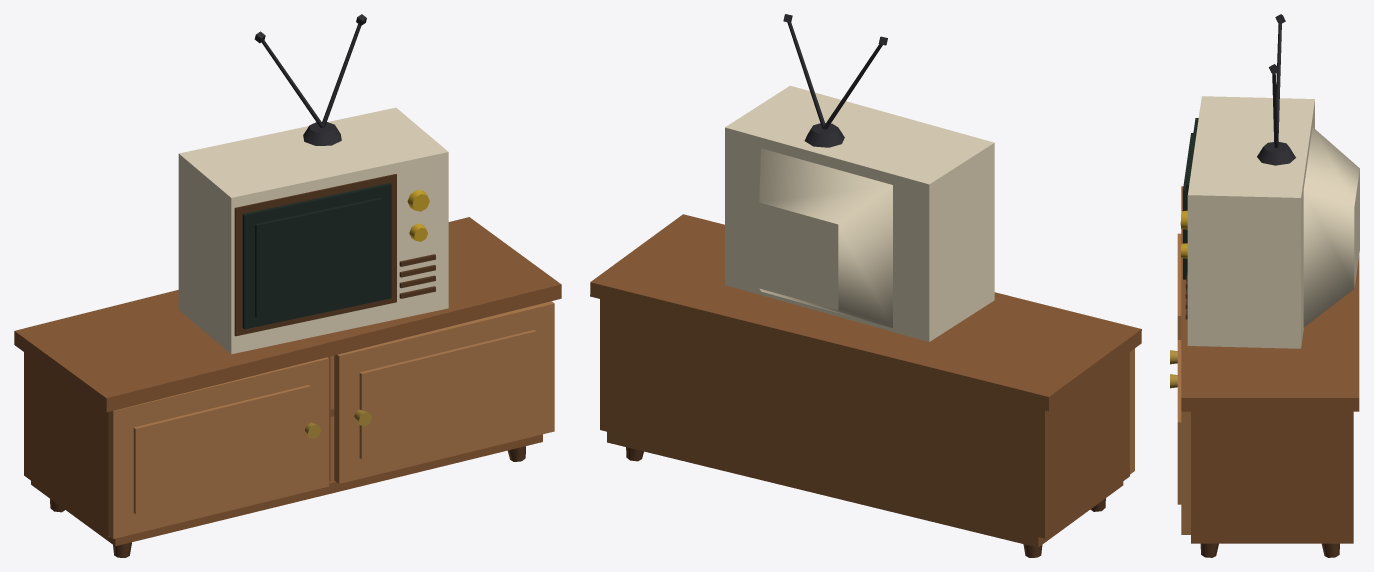
Rendered from TvKast.glb.
The picture shows the model from 3 angles, left to right: view 1: azimuth 30°, elevation 25°; view 2: azimuth 150°, elevation 25°; view 3: azimuth 270°, elevation 25°; orthographic projection. The views are drawn at different scales.
Visible parts, largest first — view 1: Carcass, TVBody, DoorR, DoorL, TVScreen, TVTrim, TVAntenna; view 2: Carcass, TVBody, TVAntenna; view 3: TVBody, Carcass, DoorR, TVAntenna, TVScreen, DoorL, LegsMerged.
Boxes of the visible parts, x1,y1,x2,y2 form: Carcass: (14, 217, 561, 546); TVBody: (178, 107, 448, 354); DoorR: (334, 301, 554, 483); DoorL: (108, 357, 328, 538); TVScreen: (242, 183, 391, 329); TVTrim: (234, 174, 435, 336); TVAntenna: (254, 14, 366, 145); Carcass: (590, 214, 1141, 547); TVBody: (725, 85, 994, 341); TVAntenna: (783, 14, 887, 147); TVBody: (1187, 96, 1359, 348); Carcass: (1181, 186, 1359, 543); DoorR: (1177, 340, 1190, 534); TVAntenna: (1257, 14, 1295, 165); TVScreen: (1183, 118, 1198, 290); DoorL: (1177, 233, 1181, 339); LegsMerged: (1200, 543, 1339, 557).
Size of the model in its own units: 1.34 by 1.28 by 0.5018.
